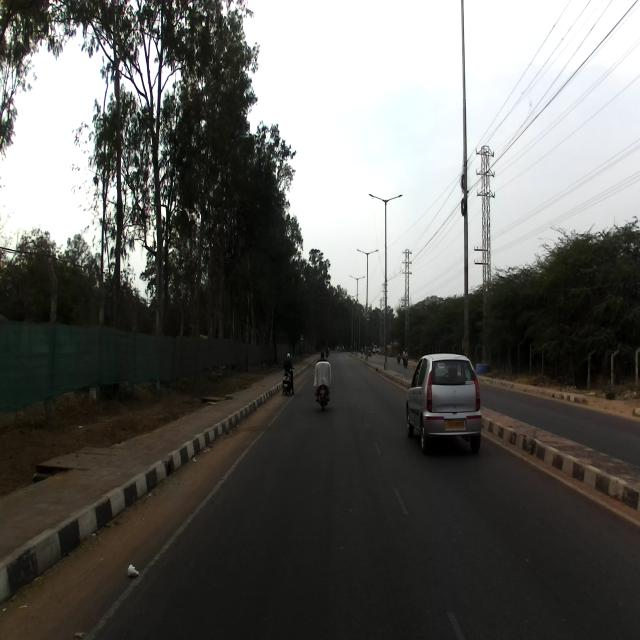car ahead at: (406, 350, 487, 456)
footpath on: (0, 385, 273, 607)
